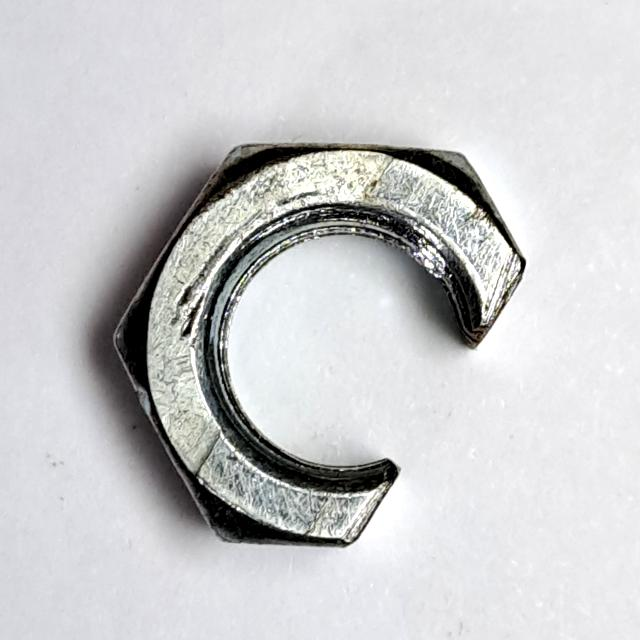Fracture: (100, 130, 544, 564)
